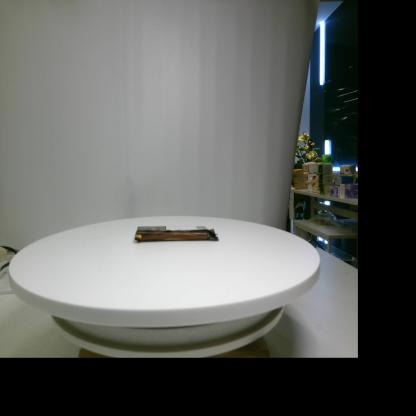Chocolate: (135, 226, 218, 241)
